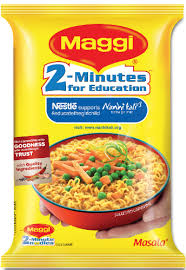maggi: (18, 10, 175, 267)
